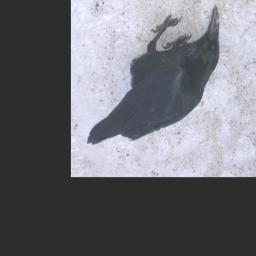Crow: (85, 6, 219, 145)
